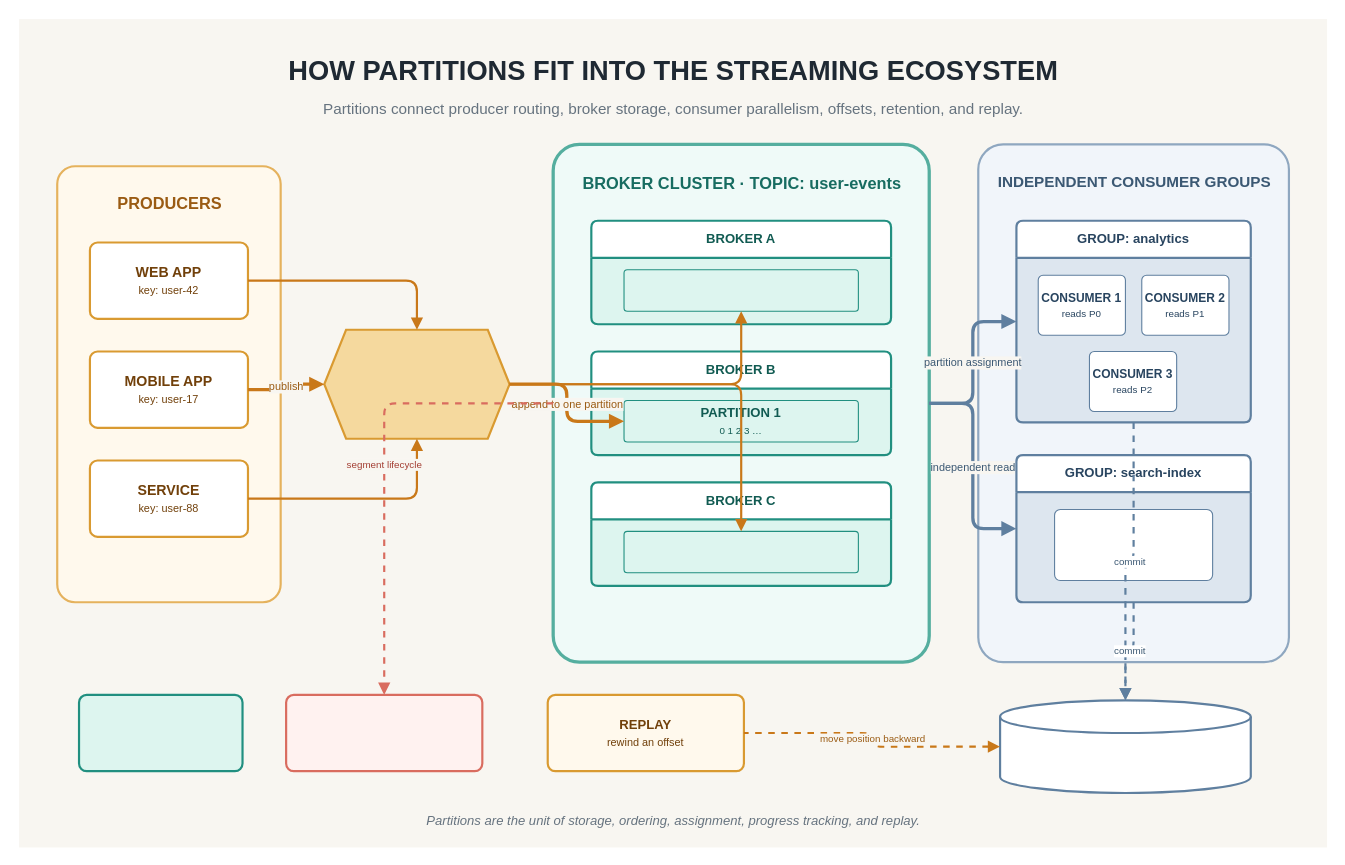
This 1345x865 diagram has some shape labels left out. The centre of each missing label's shape, as x and y in pixels:
COMMITTED OFFSETS one position per group + partition: point (1124, 746)
CONSUMER 1 reads P0 + P1 + P2: point (1133, 544)
PARALLELISM at most one active consumer per partition in a group: point (160, 732)
PARTITION 0 0 1 2 3 …: point (740, 290)
PARTITION 2 0 1 2 3 …: point (740, 551)
PARTITIONER key/hash or round-robin: point (416, 383)
RETENTION old segments expire: point (383, 732)
